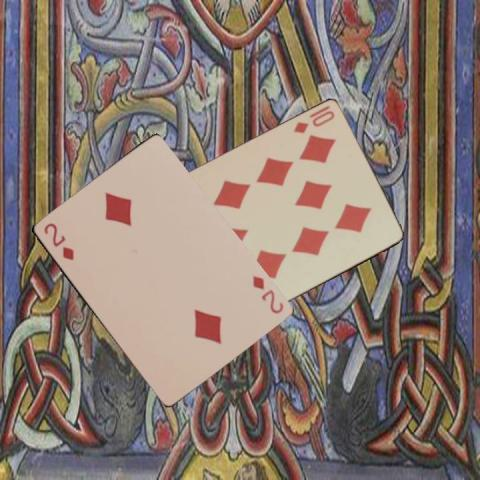10d: (290, 107, 336, 136)
2d: (248, 273, 284, 315), (40, 219, 75, 262)
